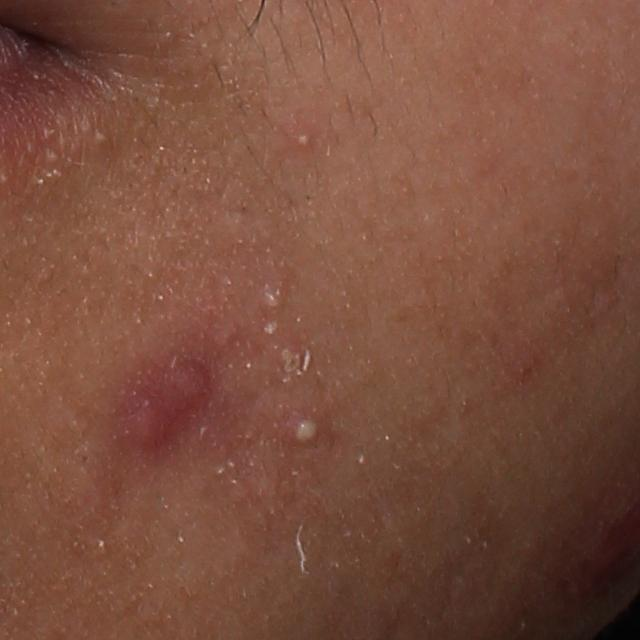comedo: (262, 286, 282, 311)
papule: (122, 401, 172, 449), (165, 363, 209, 416)
pustule: (291, 413, 325, 448), (294, 127, 316, 150)
